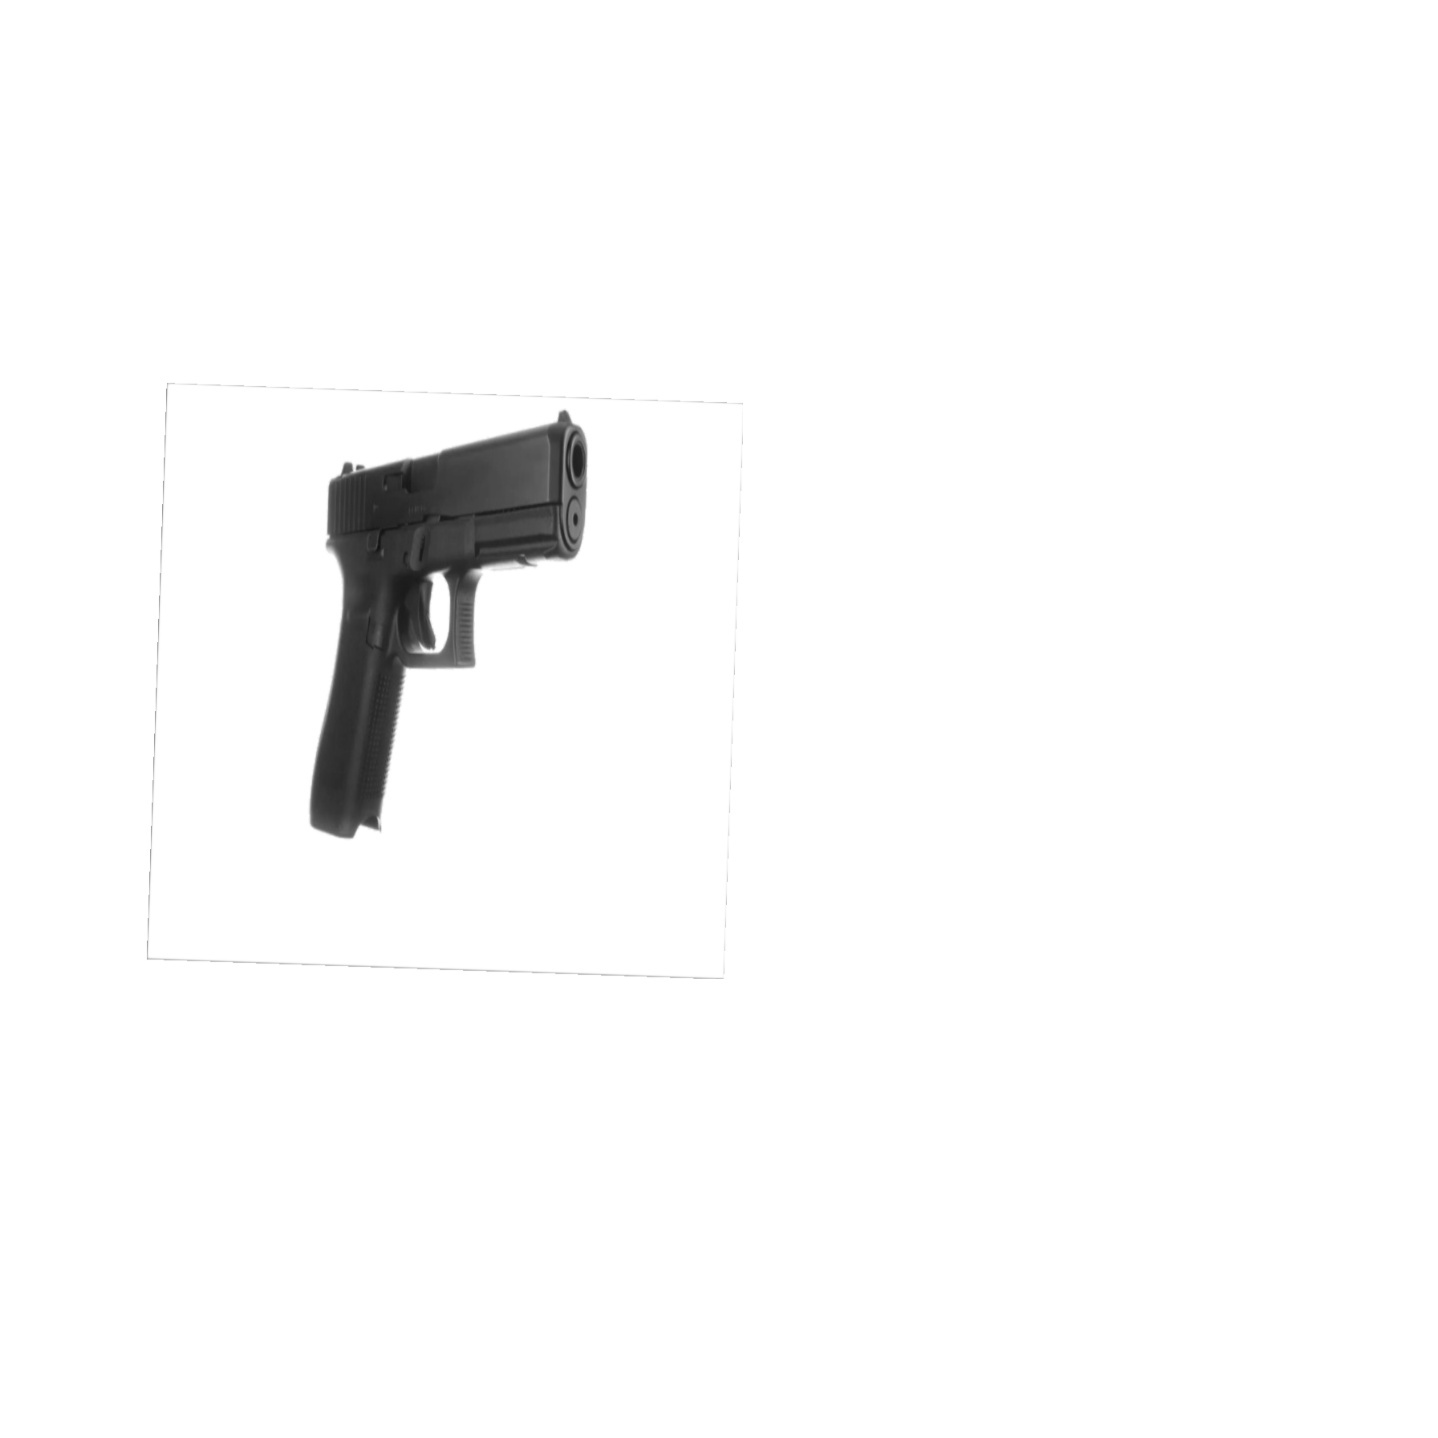gun: (308, 410, 583, 834)
